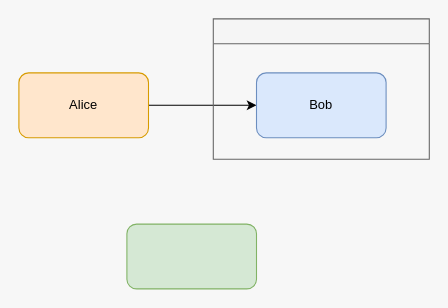
The diagram is 448 pixels wide and 308 high, and some of its shapes have lost their labels. Each missing label, with the box of its shape:
Bob's House: (212, 18, 429, 159)
Library: (126, 223, 256, 289)
